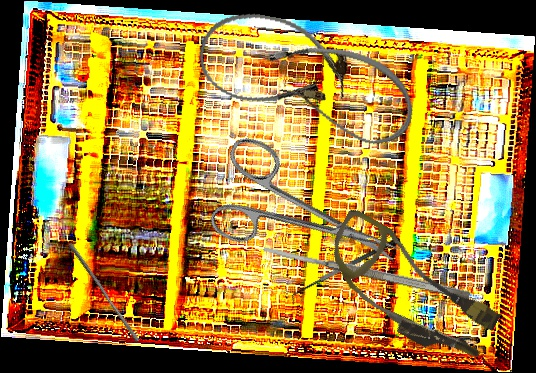Cannula: (309, 207, 512, 372), (253, 31, 425, 153), (191, 4, 357, 119)
Iris Scissors: (197, 131, 417, 306)
Pusher: (64, 242, 143, 343)
Spatula Surgical: (262, 242, 471, 302), (286, 236, 406, 306)
